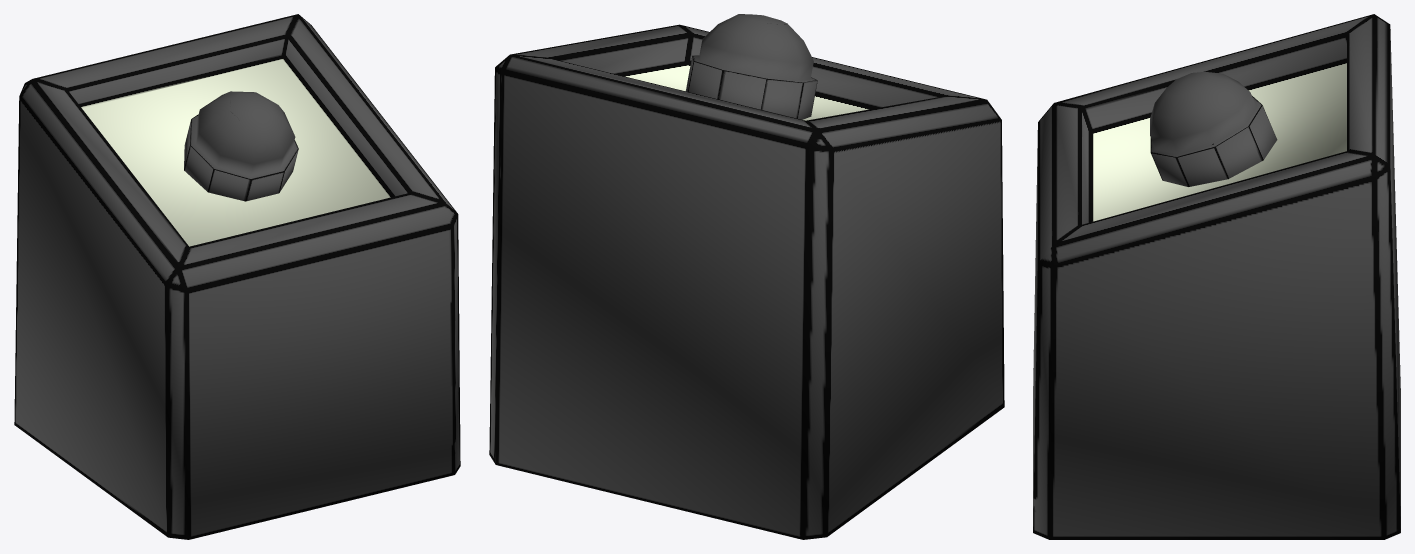
The model's file is Controller&Button.fbx.
3 views of the same model, side by side, from view 1: azimuth 30°, elevation 25°; view 2: azimuth 150°, elevation 25°; view 3: azimuth 270°, elevation 25° (orthographic). The views are drawn at different scales.
Visible parts, largest first — view 1: Controller, Button; view 2: Controller, Button; view 3: Controller, Button.
Boxes of the visible parts, x1,y1,x2,y2 form: Controller: (14,14,460,539); Button: (184,91,298,201); Controller: (489,24,1004,539); Button: (686,14,817,119); Controller: (1033,14,1400,539); Button: (1150,71,1277,186).
Bounding box in the file's own units: 2 × 2 × 2.31.
Materials: 2 (2 with a texture image).
